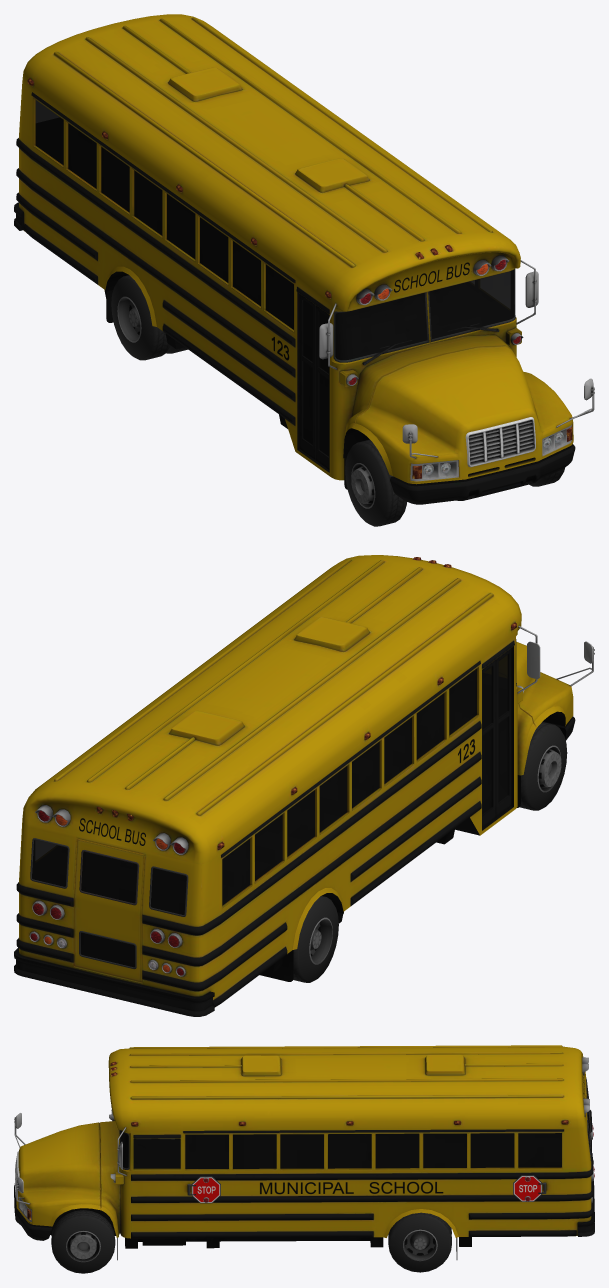
File: schoolbus.glb
3 views of the same model, one above another, from view 1: azimuth 30°, elevation 25°; view 2: azimuth 150°, elevation 25°; view 3: azimuth 270°, elevation 25° (orthographic). The views are drawn at different scales.
Parts seen in each view (by area): view 1: body_0, body_1, wheel_1, wheel_2, body_2; view 2: body_0, body_1, wheel_1, wheel_2, body_2, body_3; view 3: body_0, body_1, wheel_0, wheel_3, body_3, body_2.
Part boxes in pixels (<box>): body_0: <box>14,14,594,504</box>; body_1: <box>35,100,514,456</box>; wheel_1: <box>345,439,406,526</box>; wheel_2: <box>111,275,187,360</box>; body_2: <box>27,78,572,478</box>; body_0: <box>14,555,594,1016</box>; body_1: <box>32,655,507,914</box>; wheel_1: <box>519,722,567,810</box>; wheel_2: <box>293,896,338,982</box>; body_2: <box>30,557,516,975</box>; body_3: <box>79,739,474,845</box>; body_0: <box>14,1045,594,1260</box>; body_1: <box>120,1084,590,1168</box>; wheel_0: <box>51,1210,115,1273</box>; wheel_3: <box>388,1212,451,1272</box>; body_3: <box>192,1074,585,1202</box>; body_2: <box>23,1061,594,1219</box>.
Bounding box in the file's own units: 2.55 × 2.67 × 7.92.
4 materials, 4 textured.
